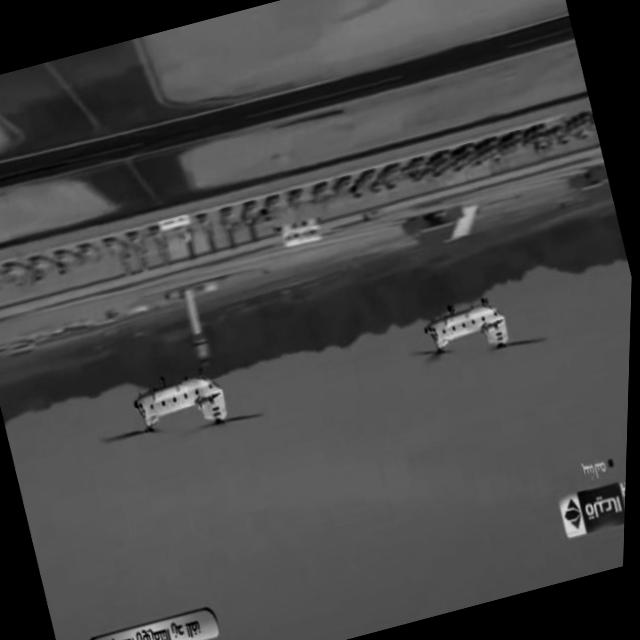helikopter: (86, 340, 261, 472), (395, 263, 549, 395)
